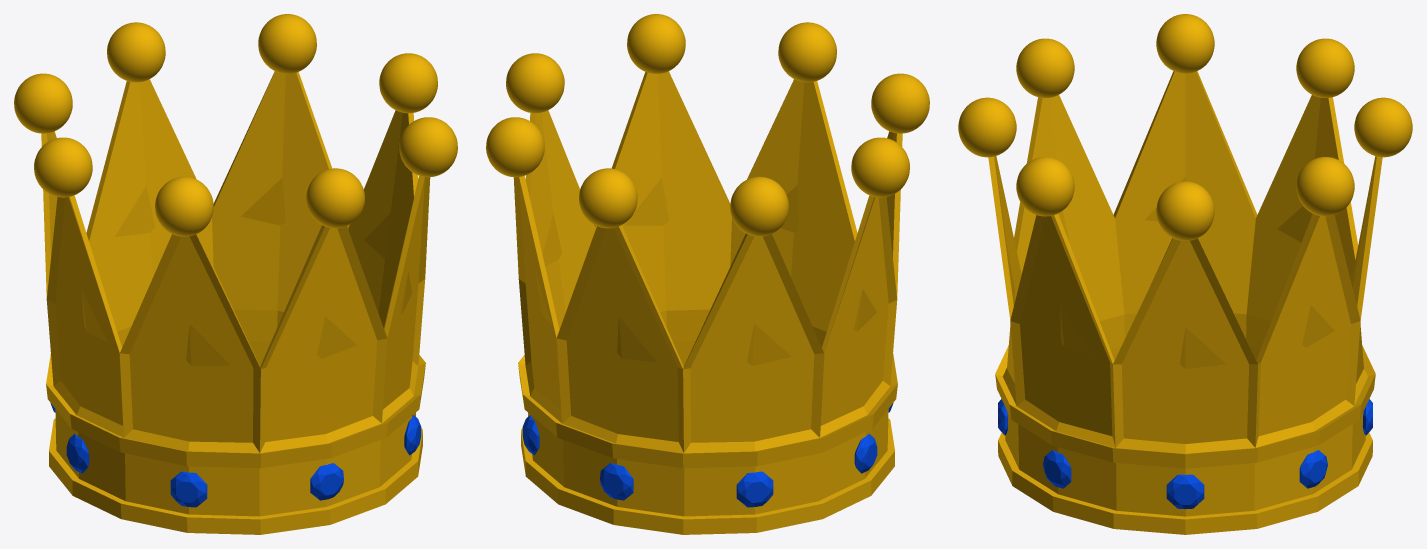
Rendered from crown.glb.
3 views of the same model, side by side, from view 1: azimuth 30°, elevation 25°; view 2: azimuth 150°, elevation 25°; view 3: azimuth 270°, elevation 25° (orthographic).
Parts seen in each view (by area): view 1: 円; view 2: 円; view 3: 円.
Part boxes in pixels (bbox=[...]): 円: bbox=[14, 14, 457, 534]; 円: bbox=[486, 14, 929, 534]; 円: bbox=[958, 14, 1412, 534].
Bounding box in the file's own units: 2.24 × 1.93 × 2.24.
